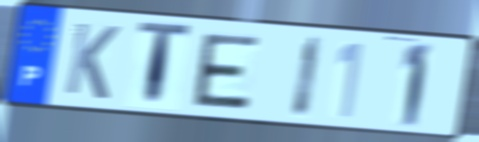1: (399, 41, 435, 129), (335, 40, 365, 120)
E: (192, 31, 263, 112)
I: (289, 33, 326, 121)
K: (62, 19, 123, 103)
T: (135, 19, 194, 112)
